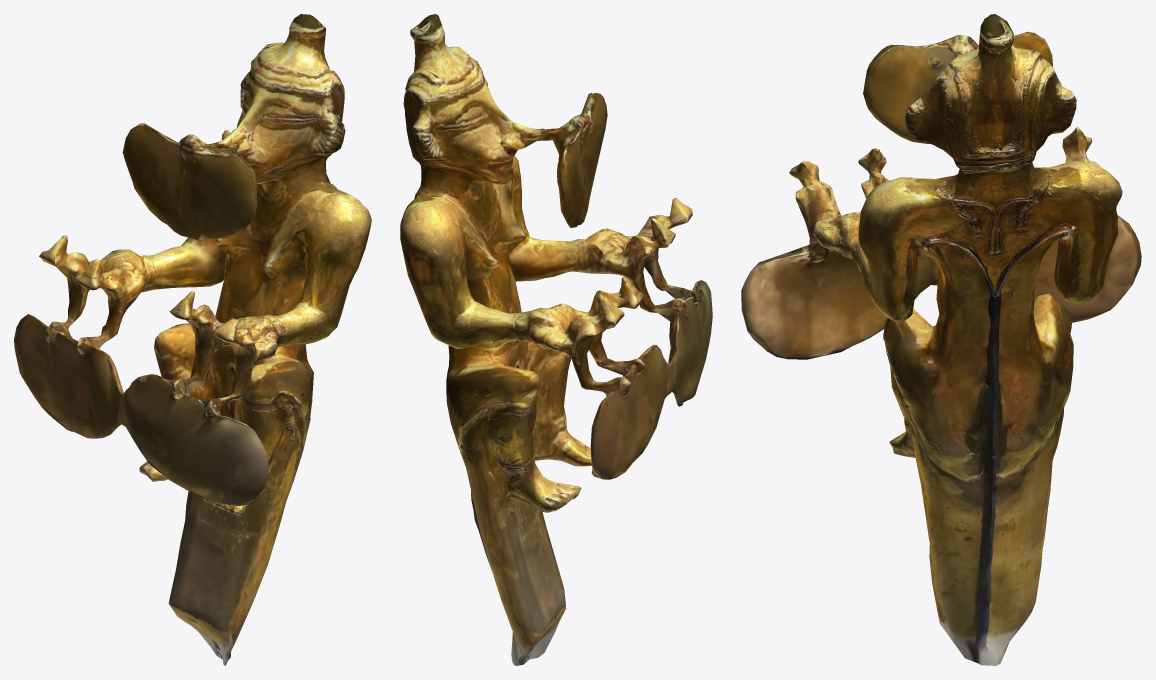
Rendered from popora_de_oro.lod2.glb.
3 views of the same model, side by side, from view 1: azimuth 30°, elevation 25°; view 2: azimuth 150°, elevation 25°; view 3: azimuth 270°, elevation 25° (orthographic). The views are drawn at different scales.
Visible parts, largest first — view 1: Object_4; view 2: Object_4; view 3: Object_4.
Boxes of the visible parts, box(x1,y1,x2,y2) form: Object_4: box(14, 14, 371, 665); Object_4: box(400, 14, 712, 665); Object_4: box(741, 14, 1141, 665).
Size of the model in its own units: 0.1253 by 0.2931 by 0.1533.
Materials: 1 (1 with a texture image).
